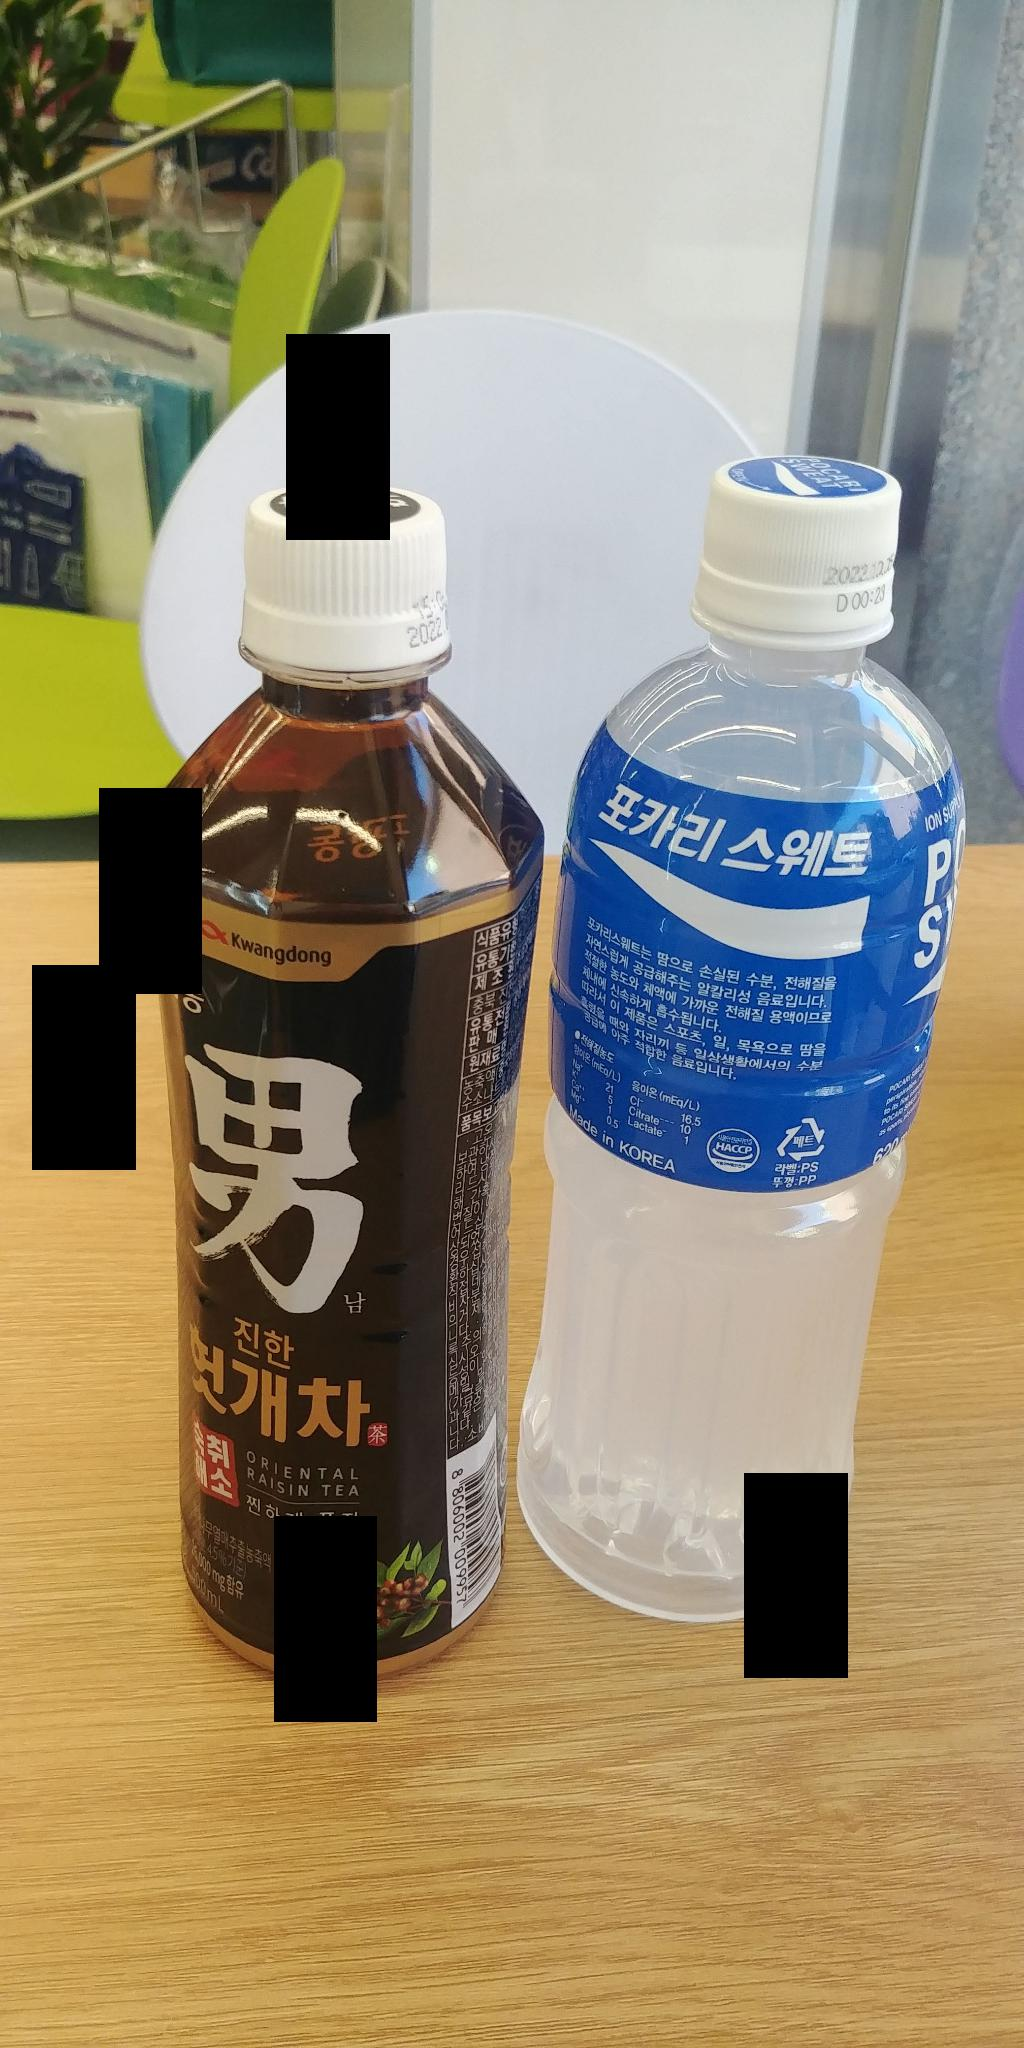heotgaecha: (121, 461, 549, 1695)
pocarisweat: (528, 431, 947, 1634)
